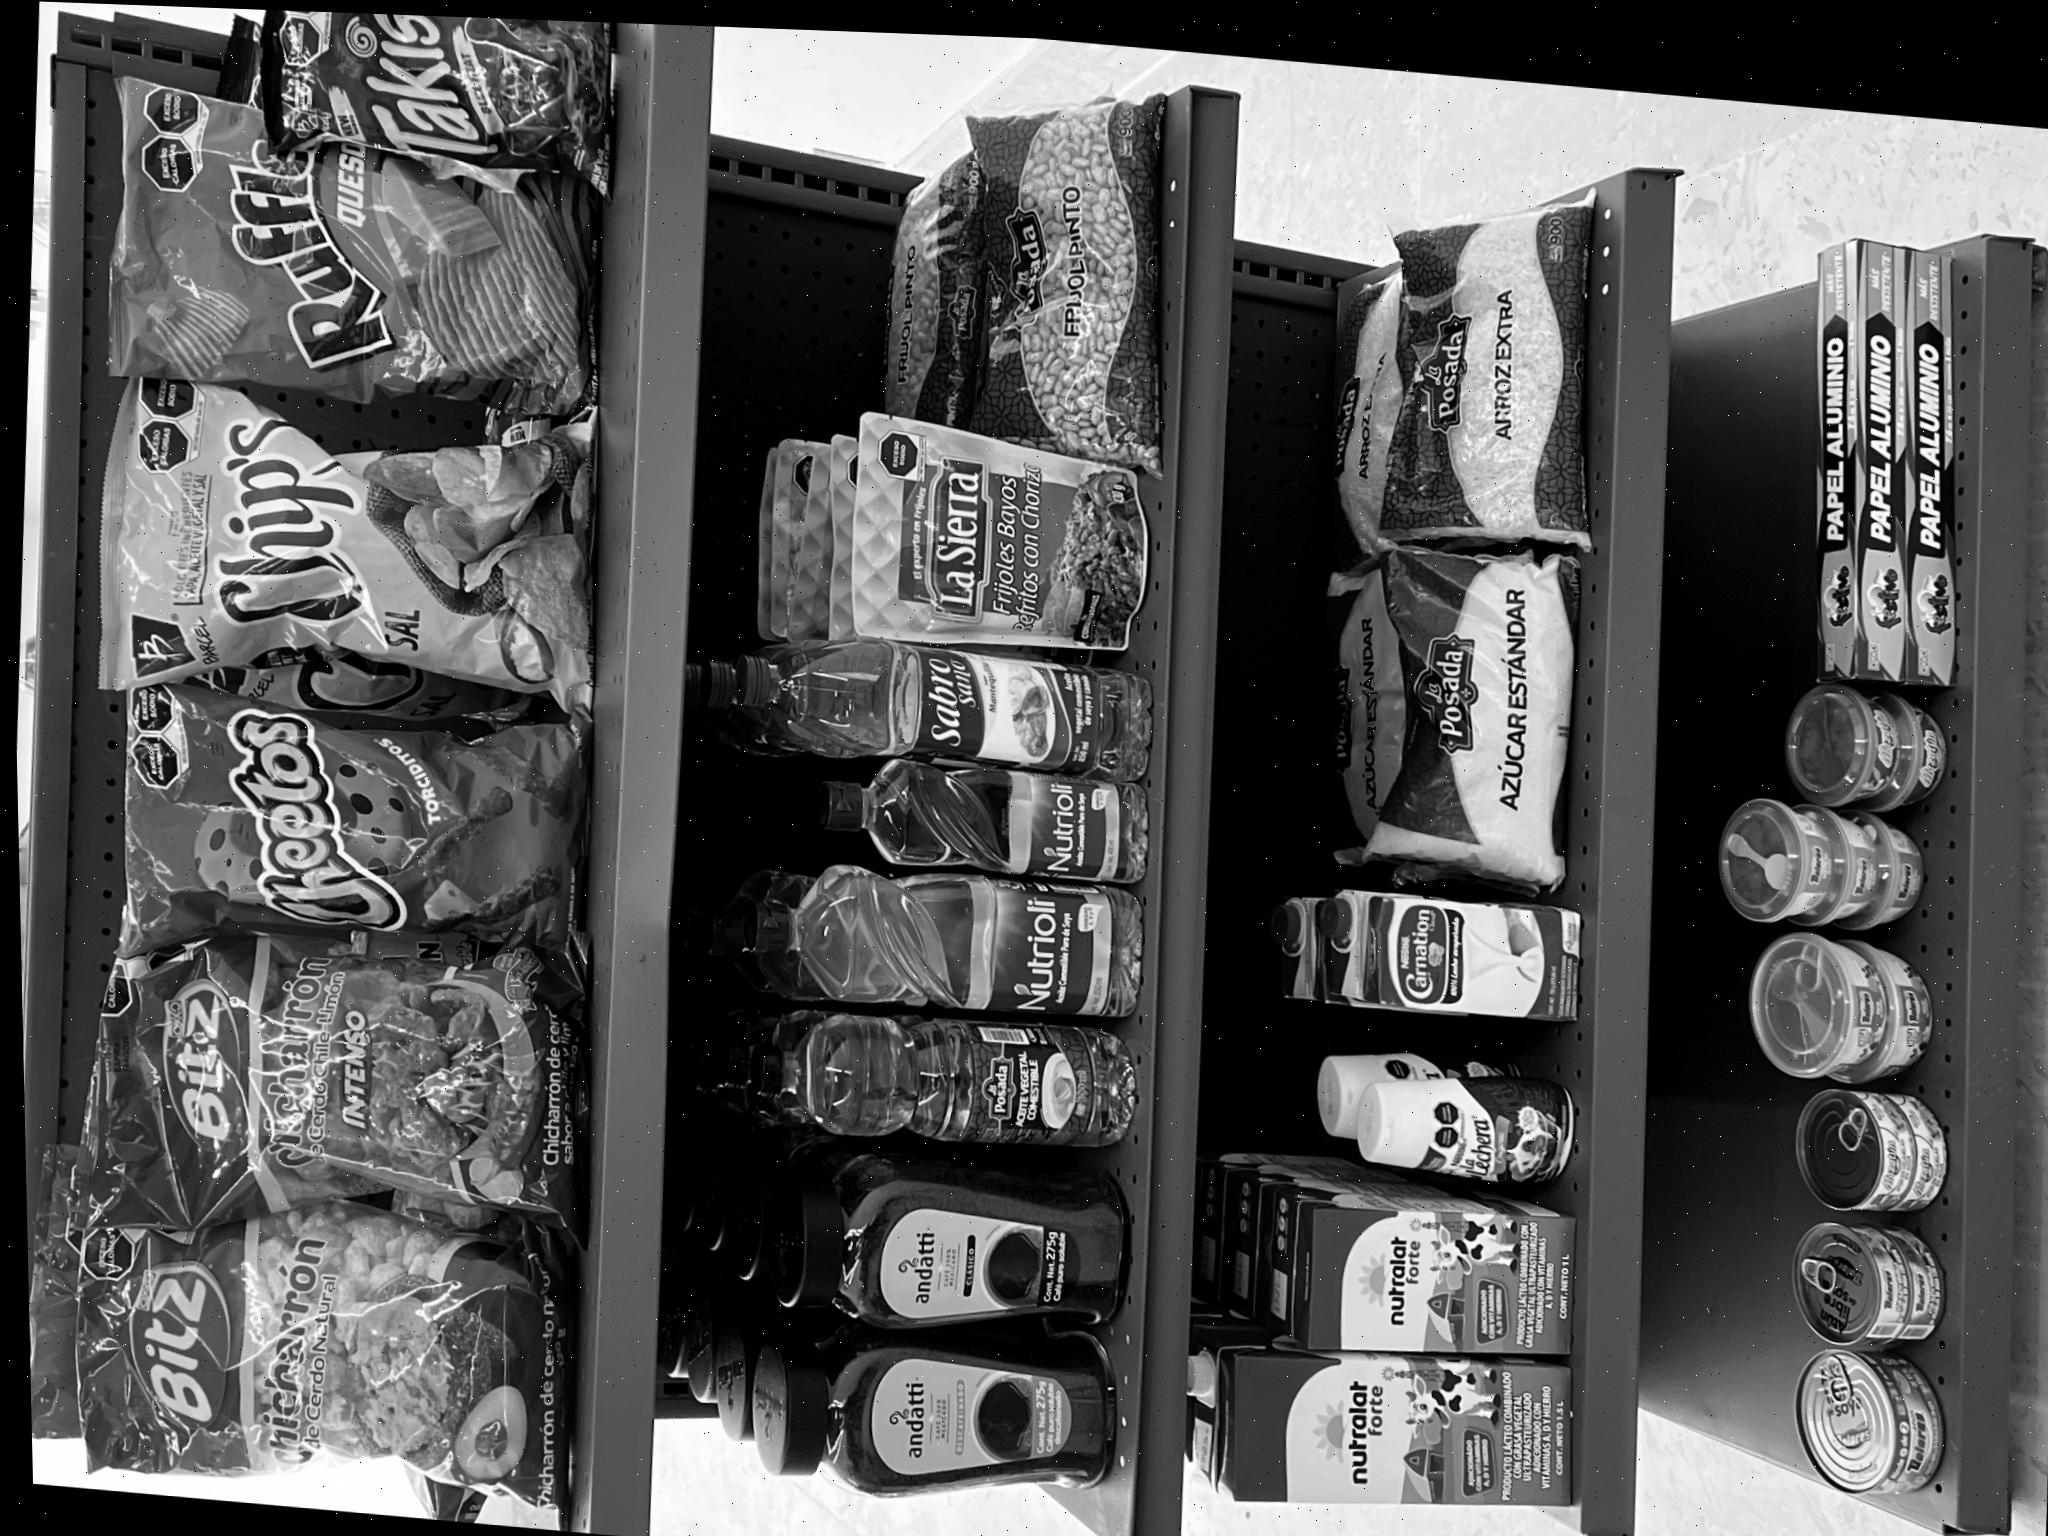aceite_nutrioli_400ml: (705, 813, 822, 1146)
aceite_nutrioli_850ml: (556, 731, 724, 1133)
aceite_posada: (424, 723, 577, 1113)
aceite_saborsano: (805, 733, 942, 1157)
andatti: (61, 716, 263, 1083), (242, 736, 440, 1104)
arroz_laposada: (1059, 1391, 1422, 1536)
azucar_laposada: (734, 1362, 1064, 1536)
carnation: (593, 1323, 718, 1536)
cheetos: (598, 118, 853, 586)
chicharron_bitz_intenso: (313, 61, 626, 576)
chicharron_bitz_natural: (26, 39, 337, 537)
chips_sal: (821, 111, 1163, 623)
frijol_laposada: (1143, 992, 1501, 1200)
frijol_lasierra: (927, 868, 1147, 1157)
lalechera: (427, 1336, 548, 1528)
leche_nutralatforte: (81, 1187, 260, 1502), (248, 1226, 418, 1517)
ruffles: (1129, 131, 1411, 626)
takis: (1384, 310, 1572, 655)
